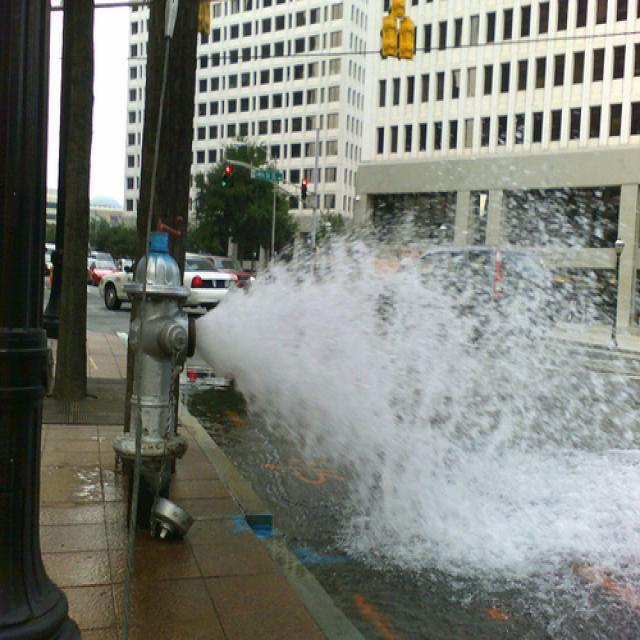fire_hydrant: (110, 232, 206, 541)
